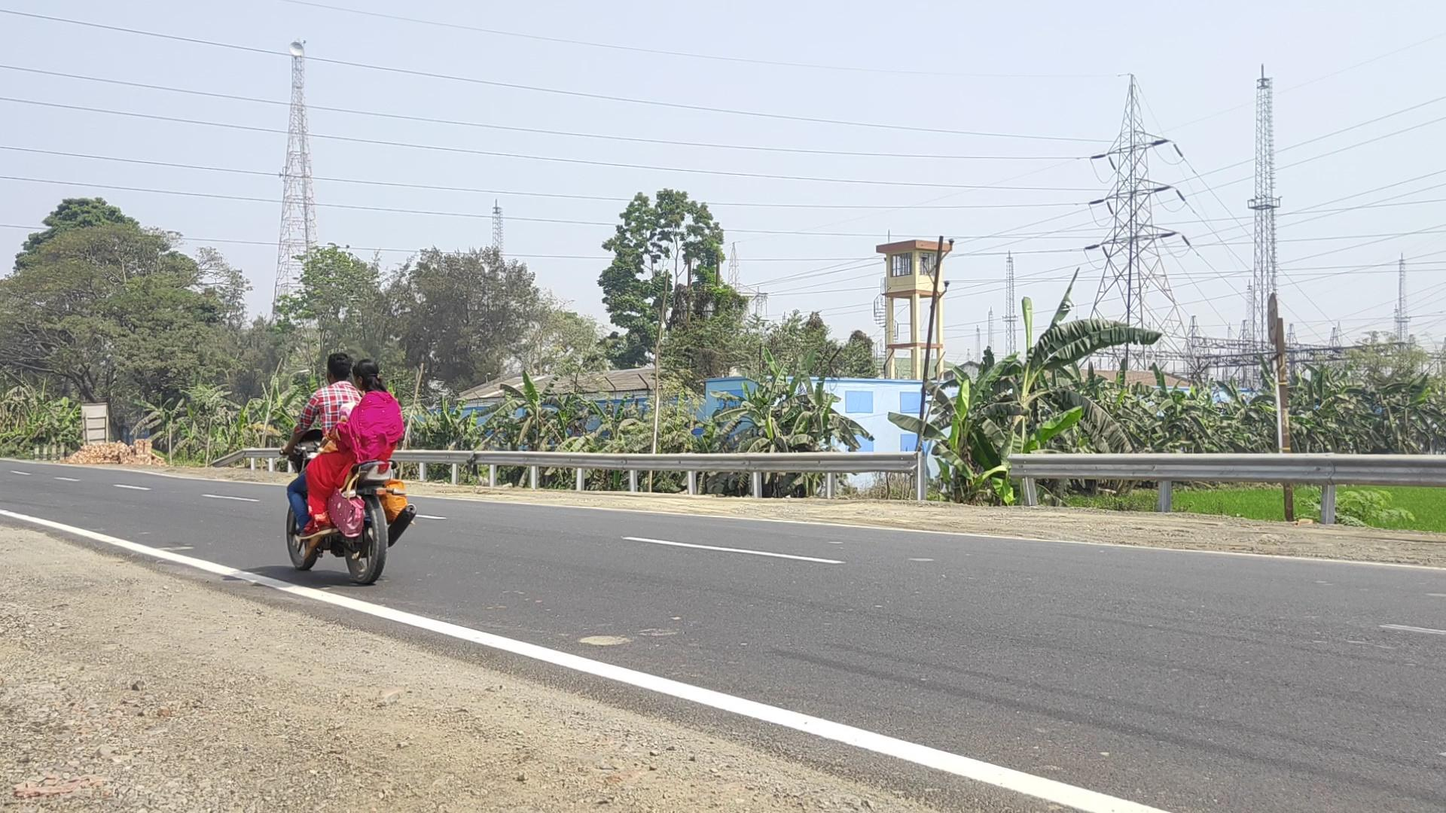bike: (279, 352, 417, 585)
